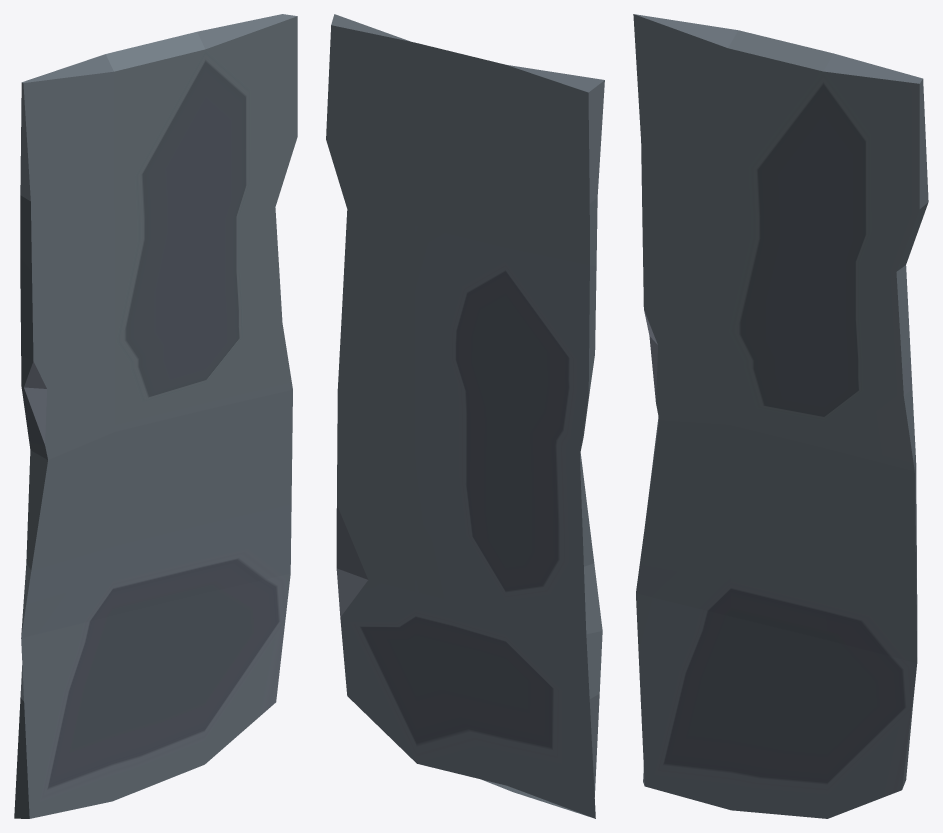
The model's file is SM_Metal_Sheet_C.fbx.
3 renders of one model, left to right at view 1: azimuth 30°, elevation 25°; view 2: azimuth 150°, elevation 25°; view 3: azimuth 330°, elevation 25°, orthographic. The views are drawn at different scales.
Parts seen in each view (by area): view 1: SM_Metal_Sheet_C; view 2: SM_Metal_Sheet_C; view 3: SM_Metal_Sheet_C.
Part boxes in pixels (bbox=[...]): SM_Metal_Sheet_C: bbox=[14, 14, 297, 818]; SM_Metal_Sheet_C: bbox=[326, 14, 604, 818]; SM_Metal_Sheet_C: bbox=[633, 14, 928, 818].
Size of the model in its own units: 63.43 by 164 by 3.7.
